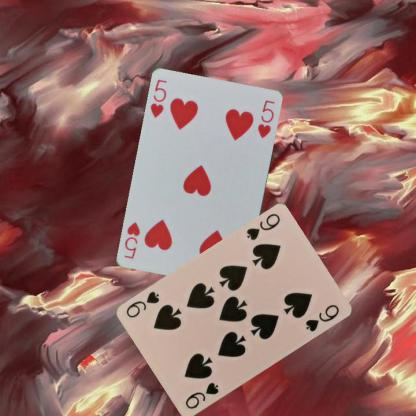5h: (148, 76, 169, 119)
9s: (243, 211, 281, 242), (183, 379, 220, 410)
